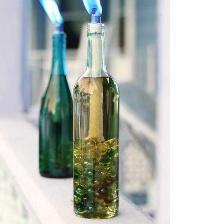bottle: (68, 21, 129, 222), (34, 27, 75, 188)
